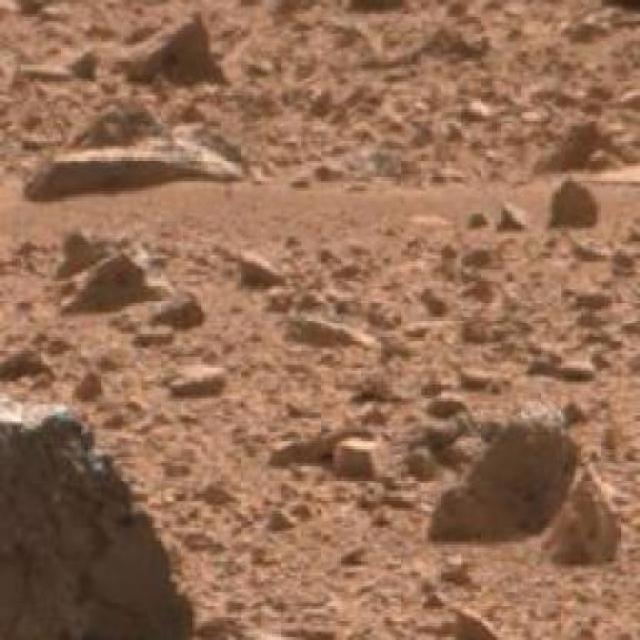rock: (1, 376, 202, 638), (21, 96, 264, 202), (423, 392, 588, 546), (548, 468, 621, 572), (554, 173, 604, 229)
